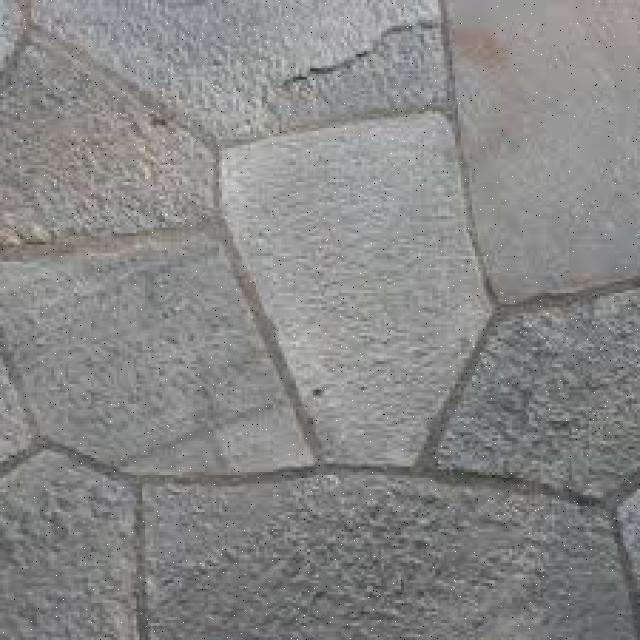Metamorphic: (3, 3, 637, 637)
